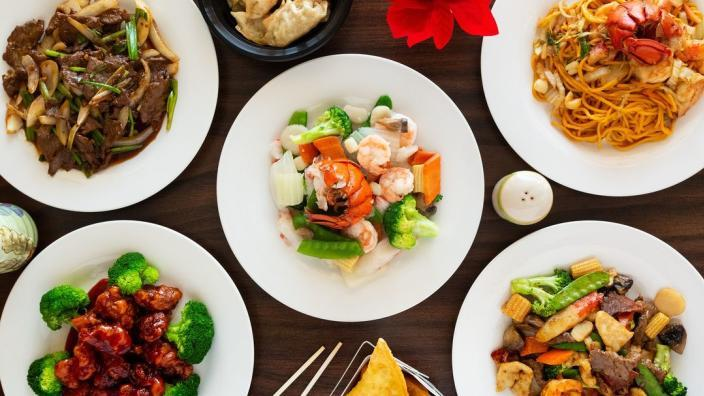Braised Crucian Carp: (216, 52, 477, 326), (3, 2, 220, 208), (0, 220, 253, 396), (451, 220, 703, 395), (480, 2, 701, 199)
